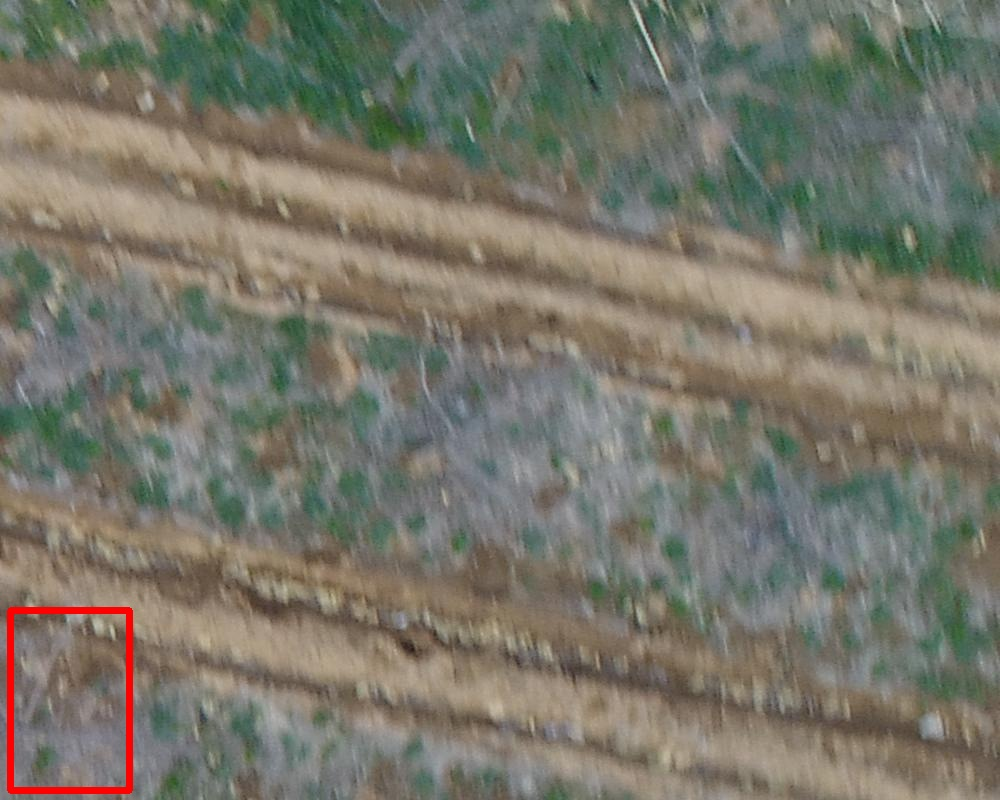apple: (10, 610, 129, 790)
